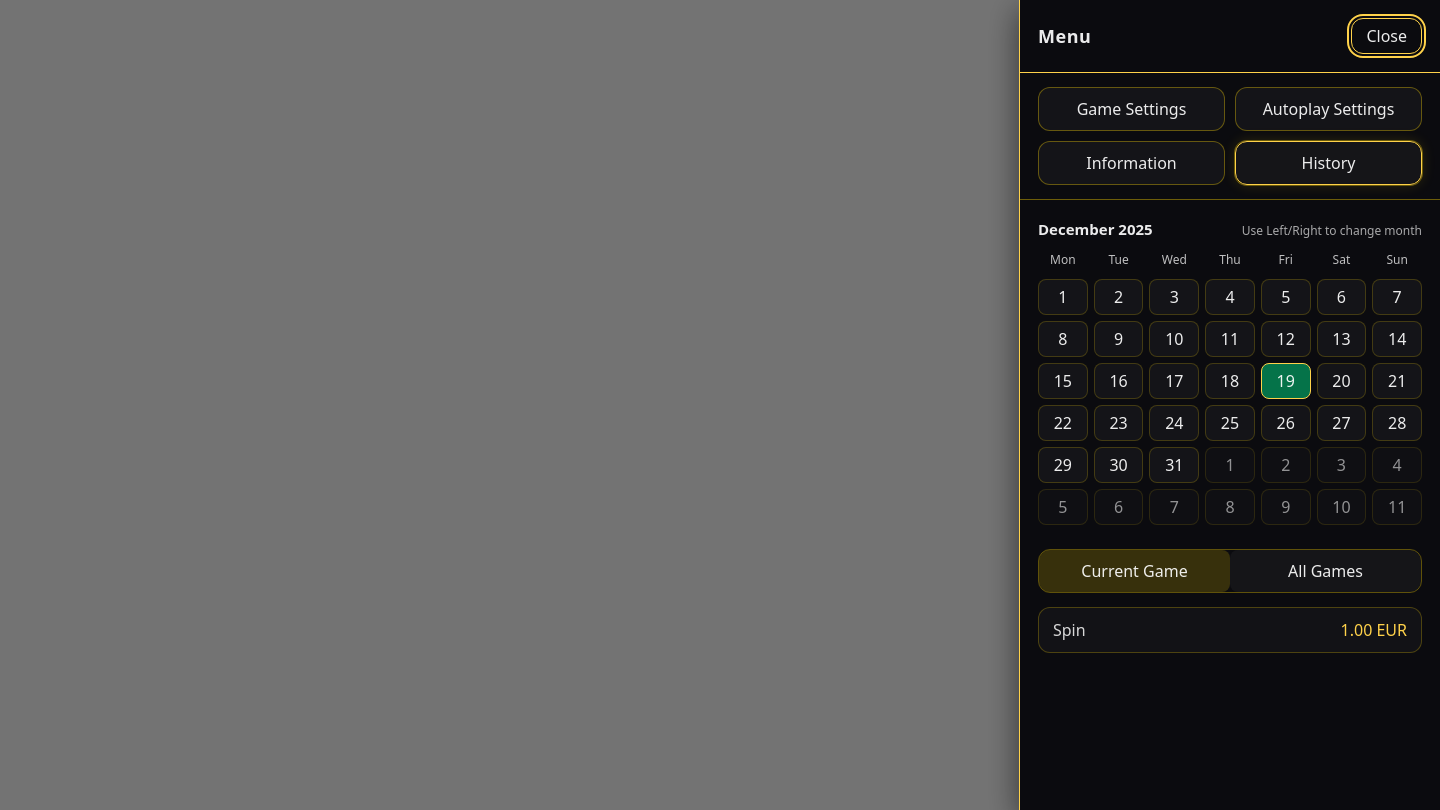
it: CasinoMenu (RTL) › switches history mode via segmented control
Expected: the text "Spin" is shown, [1053, 618, 1086, 642]
Expected: the text "Bonus" is not shown
Step 1. Click the button "All Games" → [1326, 570], box [1230, 550, 1421, 592]
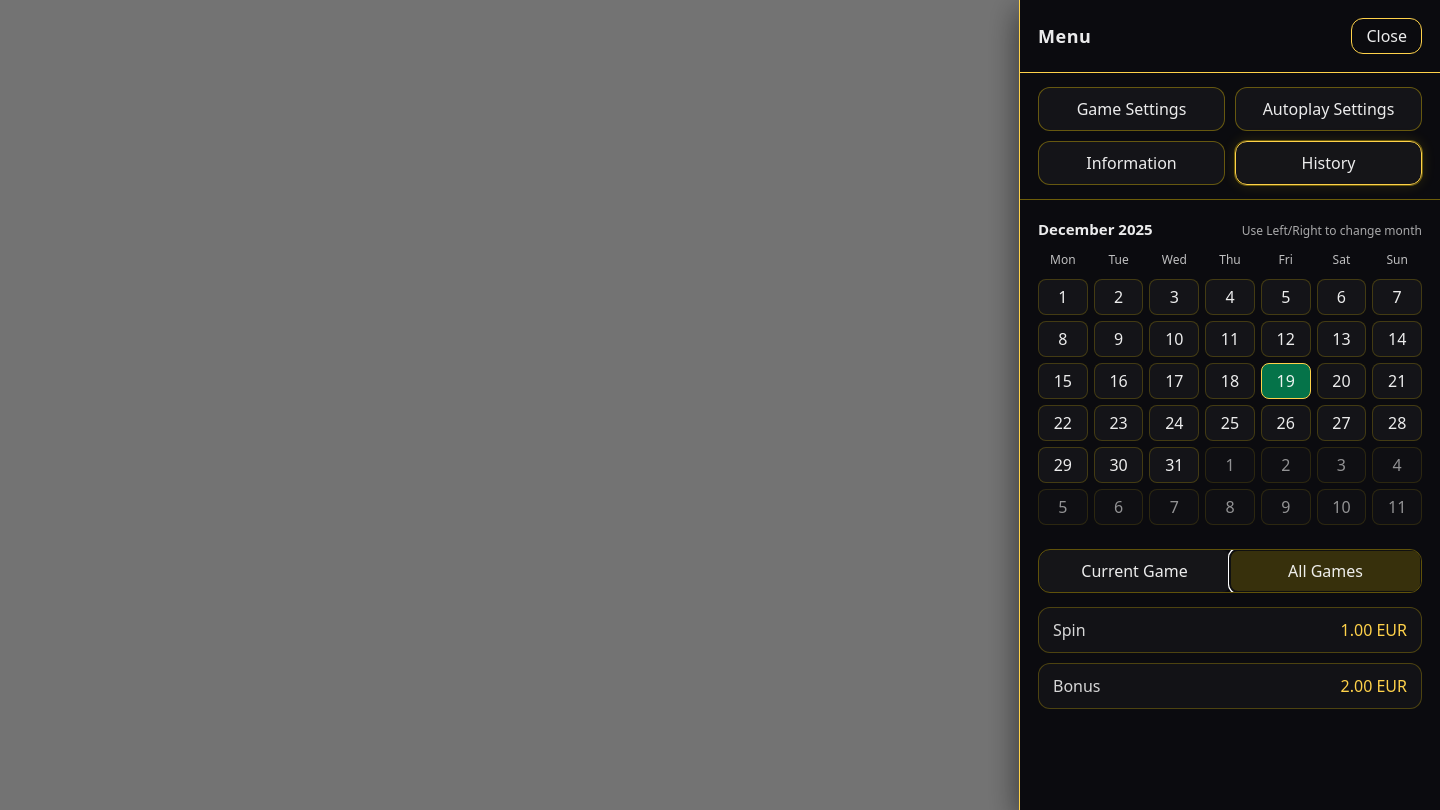
Expected: the text "Bonus" is shown, [1053, 674, 1100, 698]
